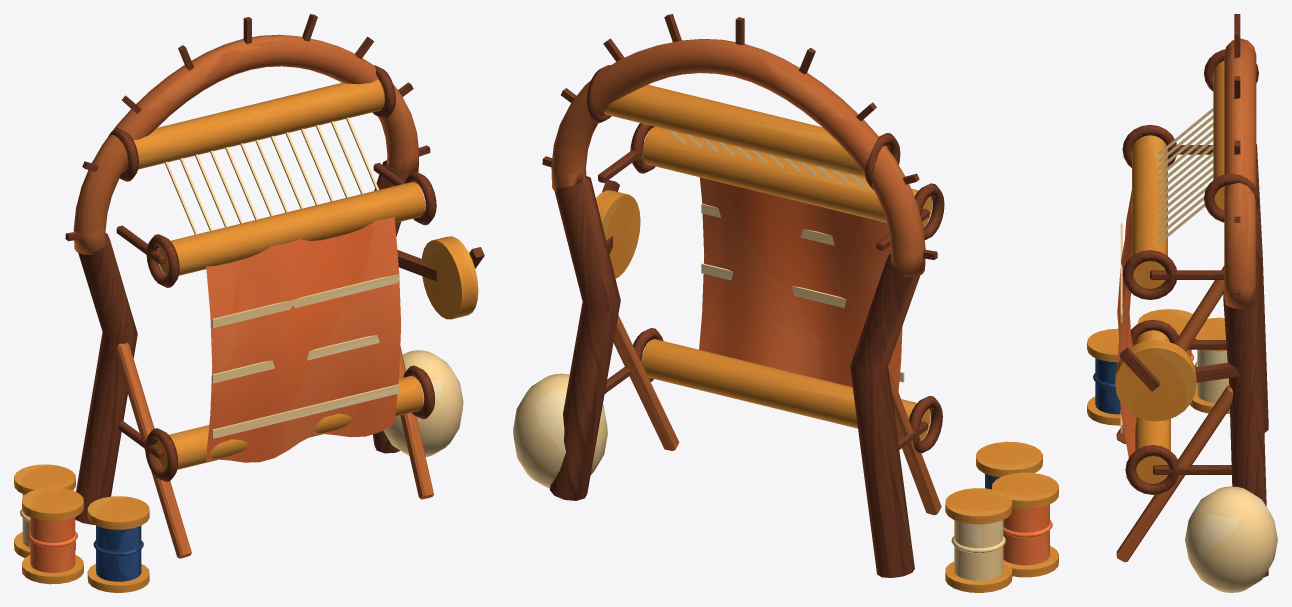
Rendered from 03_宫崎骏参考_水粉.glb.
The picture shows the model from 3 angles, left to right: view 1: azimuth 30°, elevation 25°; view 2: azimuth 150°, elevation 25°; view 3: azimuth 270°, elevation 25°; orthographic projection. The views are drawn at different scales.
Visible parts, largest first — view 1: sundial_loom; view 2: sundial_loom; view 3: sundial_loom.
Part boxes in pixels (x1,y1,x2,y2): sundial_loom: (14, 14, 484, 592); sundial_loom: (513, 14, 1058, 592); sundial_loom: (1087, 14, 1277, 592).
Size of the model in its own units: 1.84 by 1.8 by 0.657.
Materials: 1 (1 with a texture image).
